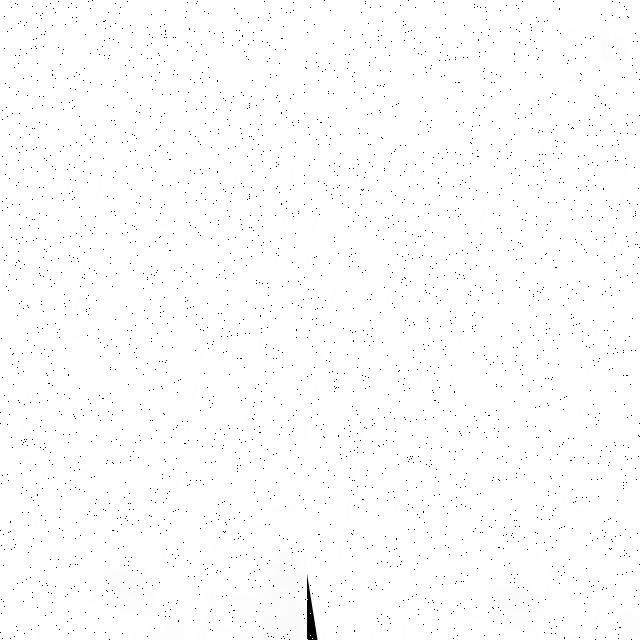drone: (307, 166, 640, 640), (0, 166, 307, 640)
